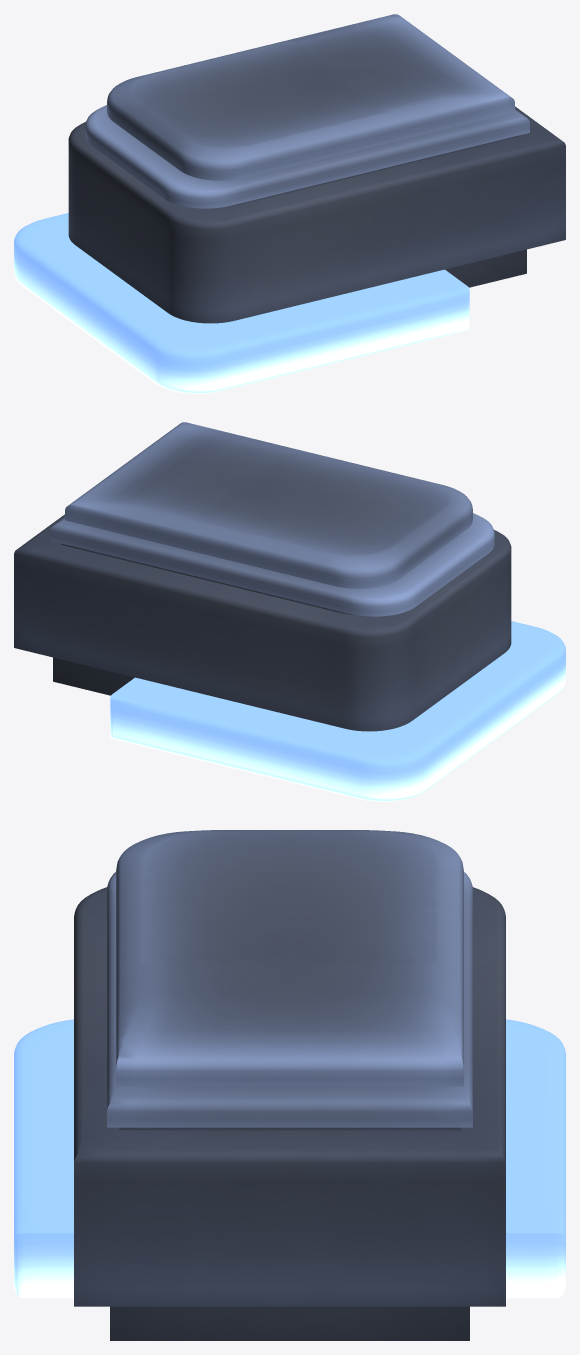
File: MainHubBlockout2.fbx
3 views of the same model, one above another, from view 1: azimuth 30°, elevation 25°; view 2: azimuth 150°, elevation 25°; view 3: azimuth 270°, elevation 25° (orthographic). The views are drawn at different scales.
Visible parts, largest first — view 1: Arch.002; view 2: Arch.002; view 3: Arch.002.
Part boxes in pixels (x1=…): Arch.002: x1=14, y1=14, x2=565, y2=393; Arch.002: x1=14, y1=422, x2=565, y2=801; Arch.002: x1=14, y1=830, x2=565, y2=1340.
Size of the model in its own units: 5967 by 2795 by 4600.
